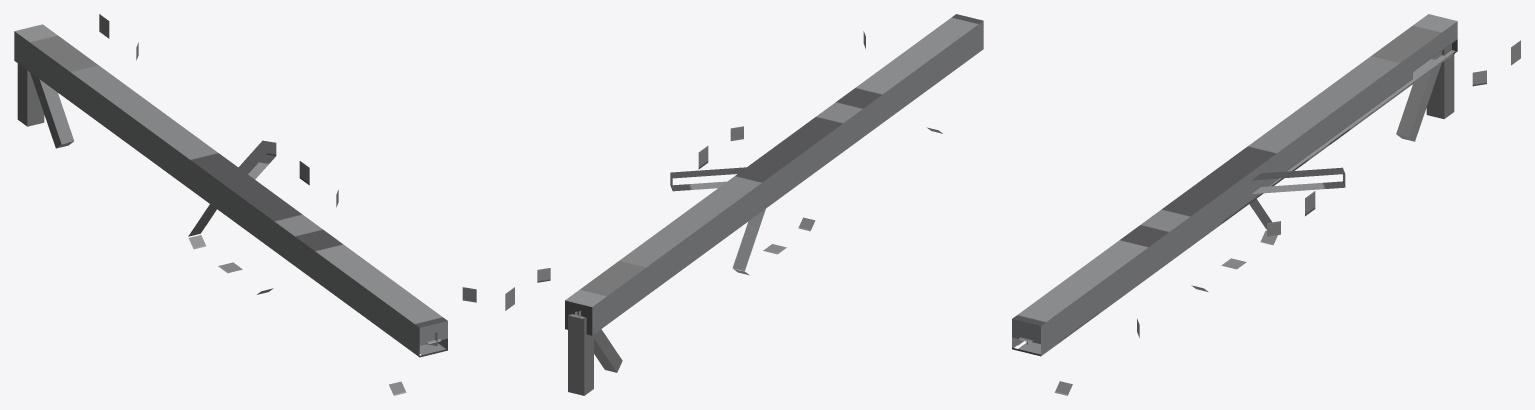
3 views of the same model, side by side, from view 1: azimuth 30°, elevation 25°; view 2: azimuth 150°, elevation 25°; view 3: azimuth 330°, elevation 25° (orthographic). The views are drawn at different scales.
Size of the model in its own units: 0.3194 by 0.3194 by 2.5.
